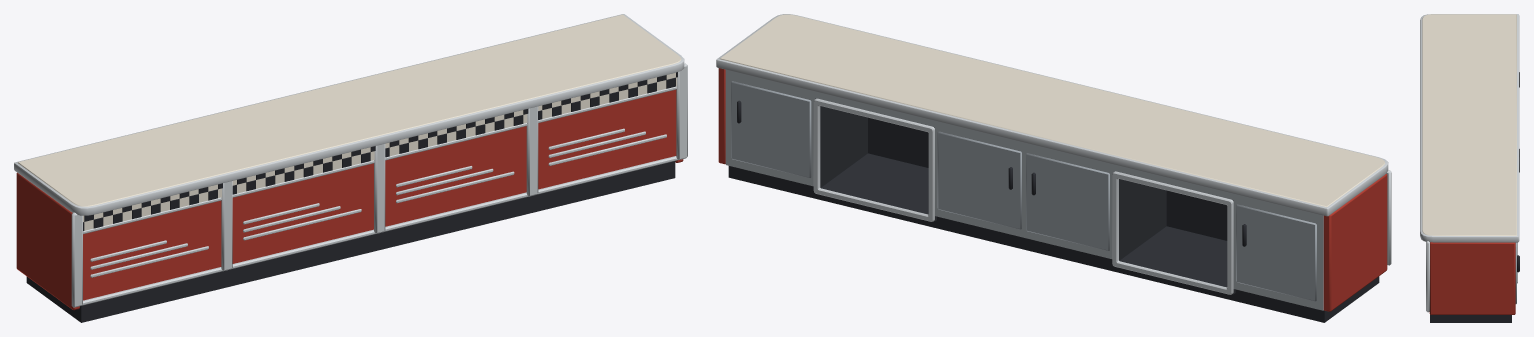
File: Shop_Counter.fbx
3 views of the same model, side by side, from view 1: azimuth 30°, elevation 25°; view 2: azimuth 150°, elevation 25°; view 3: azimuth 270°, elevation 25° (orthographic). The views are drawn at different scales.
Parts seen in each view (by area): view 1: Top, FrontPanel, Trim, Kick, EndL, CheckerDark, CheckerLight; view 2: Top, CabDoors, Trim, CubbyA, CubbyB, EndL, Kick, CabMid, CabL, CabR, CubbyHeader, EndR; view 3: Top, EndR, Trim, Kick, CabDoors, Handles.
Part boxes in pixels (x1=…): Top: x1=18, y1=14, x2=681, y2=206; FrontPanel: x1=83, y1=89, x2=676, y2=300; Trim: x1=14, y1=14, x2=687, y2=307; Kick: x1=26, y1=161, x2=675, y2=322; EndL: x1=16, y1=172, x2=79, y2=310; CheckerDark: x1=83, y1=72, x2=677, y2=231; CheckerLight: x1=83, y1=72, x2=676, y2=230; Top: x1=720, y1=14, x2=1385, y2=206; CabDoors: x1=731, y1=81, x2=1316, y2=301; Trim: x1=716, y1=14, x2=1391, y2=294; CubbyA: x1=1114, y1=171, x2=1235, y2=294; CubbyB: x1=815, y1=98, x2=936, y2=221; EndL: x1=1323, y1=174, x2=1387, y2=311; Kick: x1=728, y1=166, x2=1379, y2=322; CabMid: x1=934, y1=121, x2=1113, y2=258; CabL: x1=1233, y1=193, x2=1323, y2=310; CabR: x1=725, y1=70, x2=815, y2=186; CubbyHeader: x1=815, y1=91, x2=1233, y2=199; EndR: x1=718, y1=68, x2=725, y2=164; Top: x1=1422, y1=14, x2=1516, y2=235; EndR: x1=1429, y1=242, x2=1515, y2=314; Trim: x1=1420, y1=14, x2=1519, y2=312; Kick: x1=1430, y1=315, x2=1511, y2=322; CabDoors: x1=1515, y1=242, x2=1516, y2=303; Handles: x1=1517, y1=72, x2=1519, y2=272.
Size of the model in its own units: 1612 by 300 by 302.
